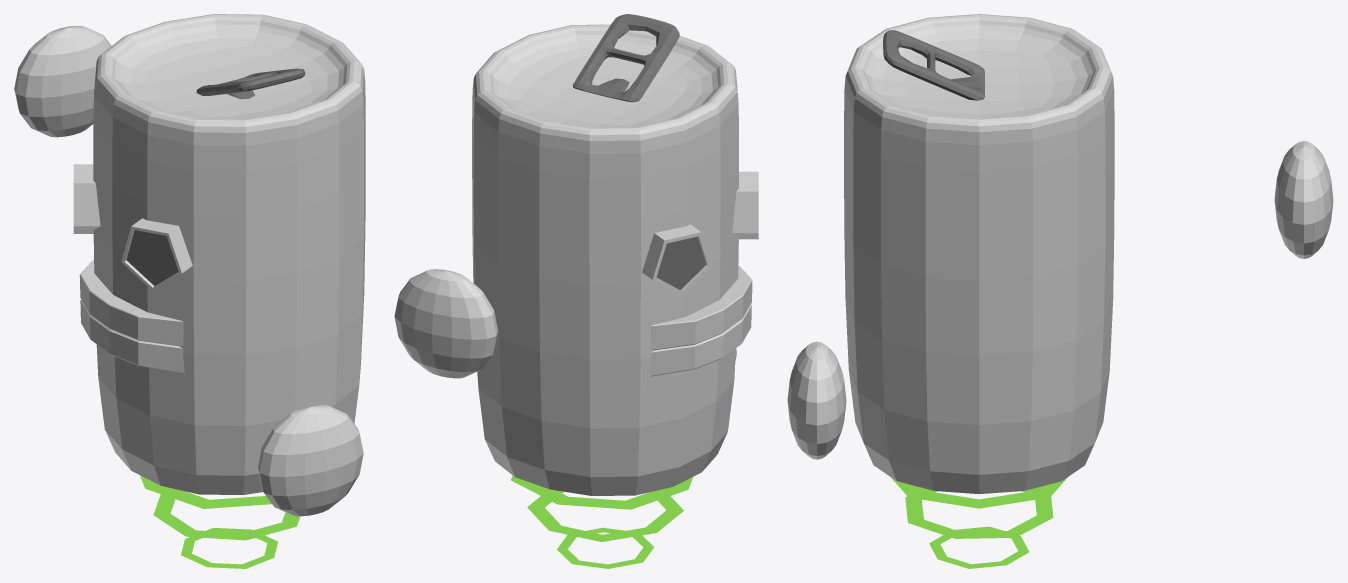
The model's file is WaiterCanRecalc.glb.
3 renders of one model, left to right at view 1: azimuth 30°, elevation 25°; view 2: azimuth 150°, elevation 25°; view 3: azimuth 270°, elevation 25°, orthographic.
Visible parts, largest first — view 1: Cube, Sphere.001, Sphere.002, Cube.002, Cylinder, Cube.001, Cylinder.001, Plane.001, Cube.003, Plane, Plane.002; view 2: Cube, Sphere.002, Cube.003, Cube.002, Cylinder.001, Cube.001, Plane.001, Plane, Cylinder, Plane.002; view 3: Cube, Sphere.001, Sphere.002, Cube.003, Plane.001, Plane, Plane.002.
Boxes of the visible parts, x1,y1,x2,y2 form: Cube: (93,14,365,494); Sphere.001: (258,405,363,516); Sphere.002: (14,25,111,137); Cube.002: (79,259,183,346); Cylinder: (121,218,192,290); Cube.001: (80,299,184,372); Cylinder.001: (73,164,100,233); Plane.001: (153,494,300,540); Cube.003: (196,68,305,99); Plane: (140,475,271,508); Plane.002: (181,528,277,568); Cube: (472,24,738,495); Sphere.002: (394,269,497,378); Cube.003: (573,14,679,102); Cube.002: (650,265,752,350); Cylinder.001: (642,224,711,295); Cube.001: (649,304,751,376); Plane.001: (527,490,683,541); Plane: (511,475,693,509); Cylinder: (732,171,758,239); Plane.002: (557,527,654,568); Cube: (844,14,1114,494); Sphere.001: (787,341,846,459); Sphere.002: (1274,141,1333,258); Cube.003: (883,30,984,100); Plane.001: (905,487,1053,538); Plane: (890,477,1067,508); Plane.002: (929,526,1029,568).
Size of the model in its own units: 1.95 by 3.79 by 3.7.
